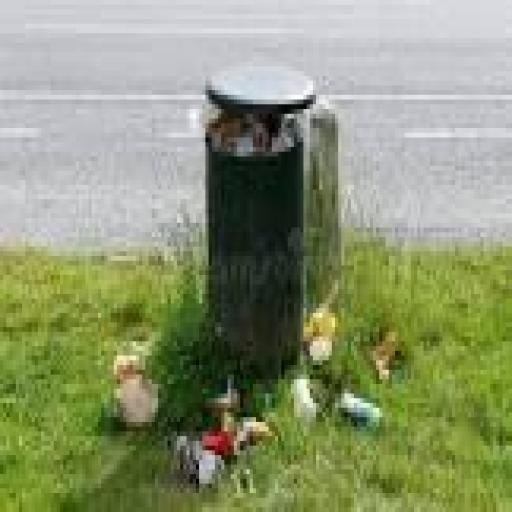poubelle_vide: (182, 60, 348, 378)
